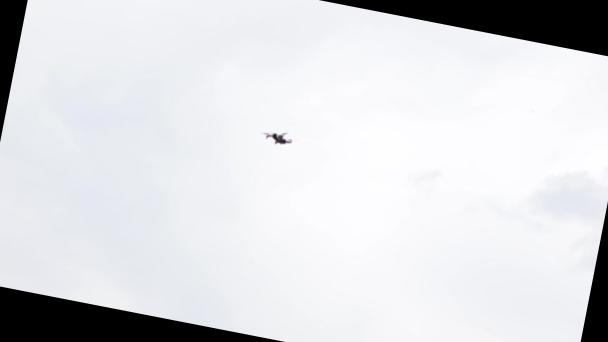drone: (261, 128, 298, 151)
